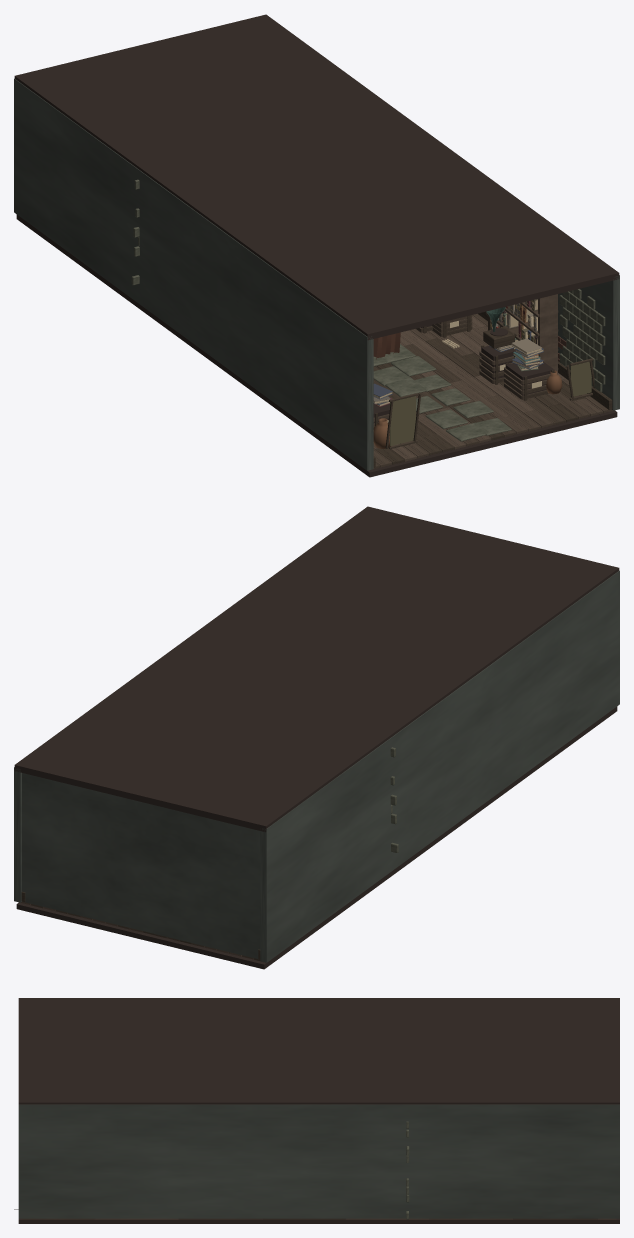
File: bookstore.glb
3 views of the same model, one above another, from view 1: azimuth 30°, elevation 25°; view 2: azimuth 150°, elevation 25°; view 3: azimuth 270°, elevation 25° (orthographic). The views are drawn at different scales.
Parts seen in each view (by area): view 1: OldCuriosityShop; view 2: OldCuriosityShop; view 3: OldCuriosityShop.
Boxes of the visible parts, left/top/right/bottom form: OldCuriosityShop: left=14, top=14, right=619, bottom=477; OldCuriosityShop: left=14, top=506, right=619, bottom=969; OldCuriosityShop: left=14, top=998, right=619, bottom=1223.
Size of the model in its own units: 6.88 by 3.54 by 15.93.
61 materials, 14 textured.
